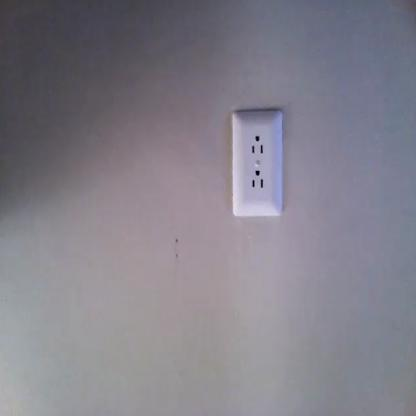OUTLET: (230, 109, 284, 216)
